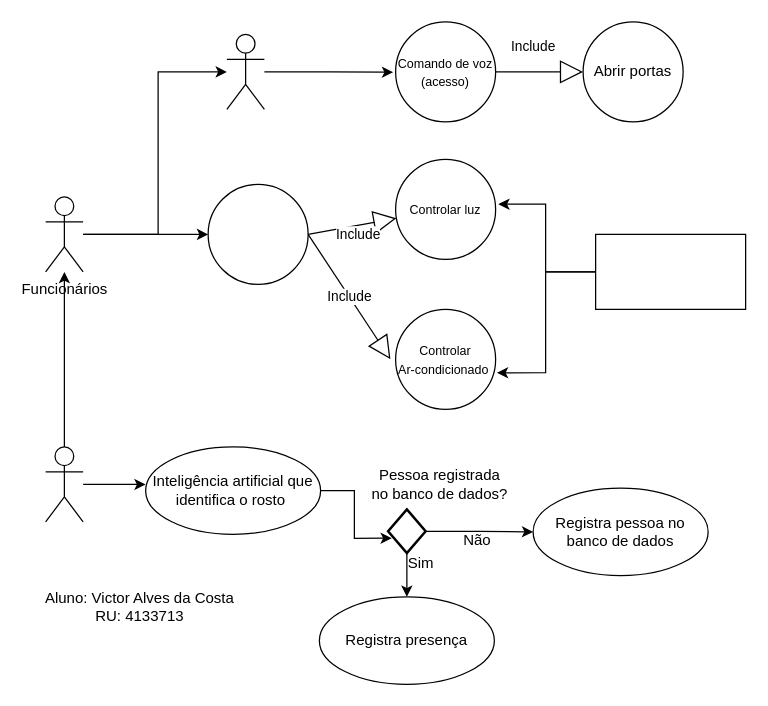
This 768x706 diagram has some shape labels left out. Here are the shapes that lost their labels. From the top down, the box of each, then its label:
(226, 33, 264, 109): Diretoria e RH
(207, 183, 308, 284): Comando de voz (equipamentos)
(594, 233, 746, 309): Sistema inteligente que controla Luz e Ar-condicionado
(44, 446, 83, 522): Pessoa
